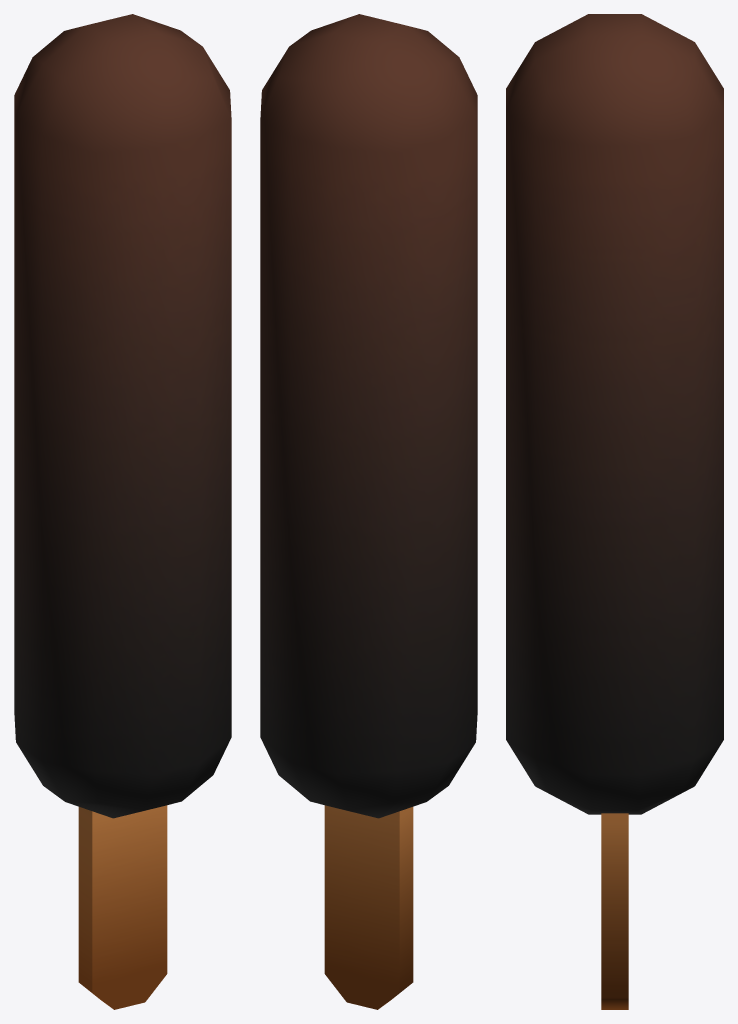
The model's file is m_PopsicleStick04.fbx.
3 views of the same model, side by side, from view 1: azimuth 30°, elevation 25°; view 2: azimuth 150°, elevation 25°; view 3: azimuth 270°, elevation 25° (orthographic).
Parts seen in each view (by area): view 1: m_PopsicleStick04; view 2: m_PopsicleStick04; view 3: m_PopsicleStick04.
Part boxes in pixels (x1,y1,x2,y2): m_PopsicleStick04: (14, 14, 231, 1009); m_PopsicleStick04: (260, 14, 477, 1009); m_PopsicleStick04: (506, 14, 723, 1009).
Bounding box in the file's own units: 4.64 × 22.99 × 4.64.
